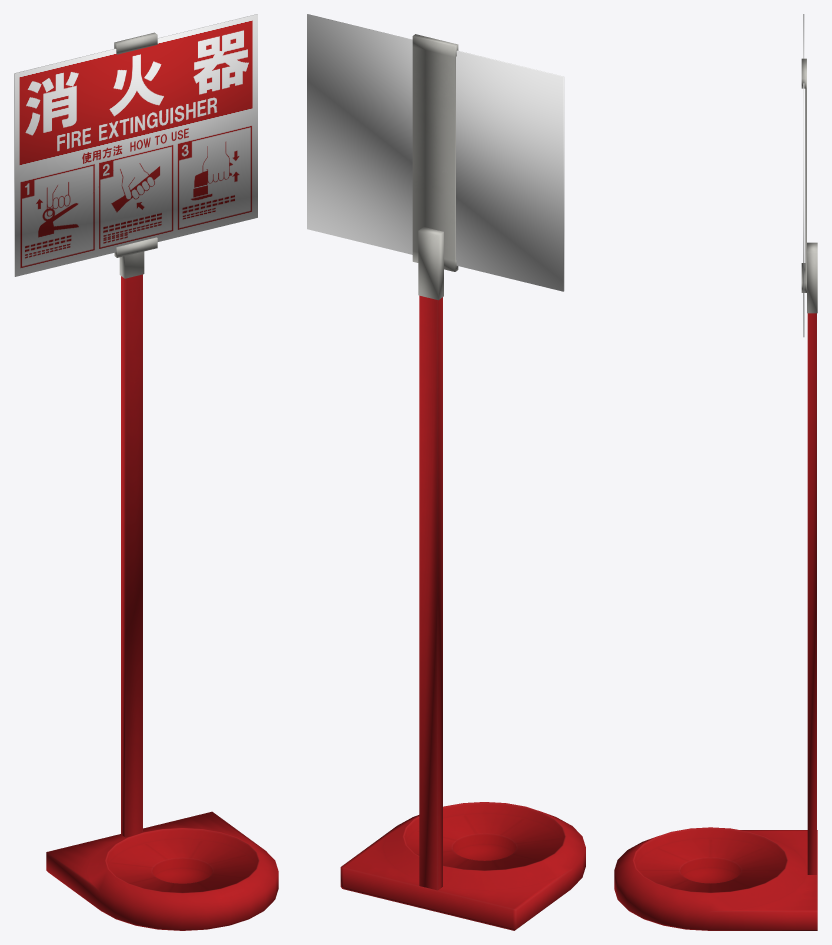
The model's file is FireExtinguisherStand_ch1.fbx.
3 renders of one model, left to right at view 1: azimuth 30°, elevation 25°; view 2: azimuth 150°, elevation 25°; view 3: azimuth 270°, elevation 25°, orthographic. The views are drawn at different scales.
Visible parts, largest first — view 1: plate, stand; view 2: plate, stand; view 3: stand, plate.
Part boxes in pixels (box(x1,y1,x2,y2)): plate: box(14, 14, 257, 276); stand: box(46, 32, 278, 930); plate: box(307, 14, 564, 291); stand: box(340, 34, 585, 930); stand: box(614, 58, 817, 930); plate: box(803, 14, 804, 337).
Size of the model in its own units: 0.25 by 0.805 by 0.1805.
1 material, 1 textured.
